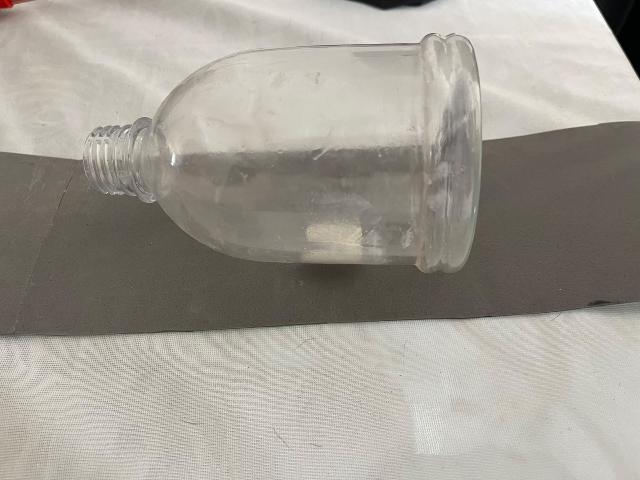PET: (49, 5, 545, 317)
